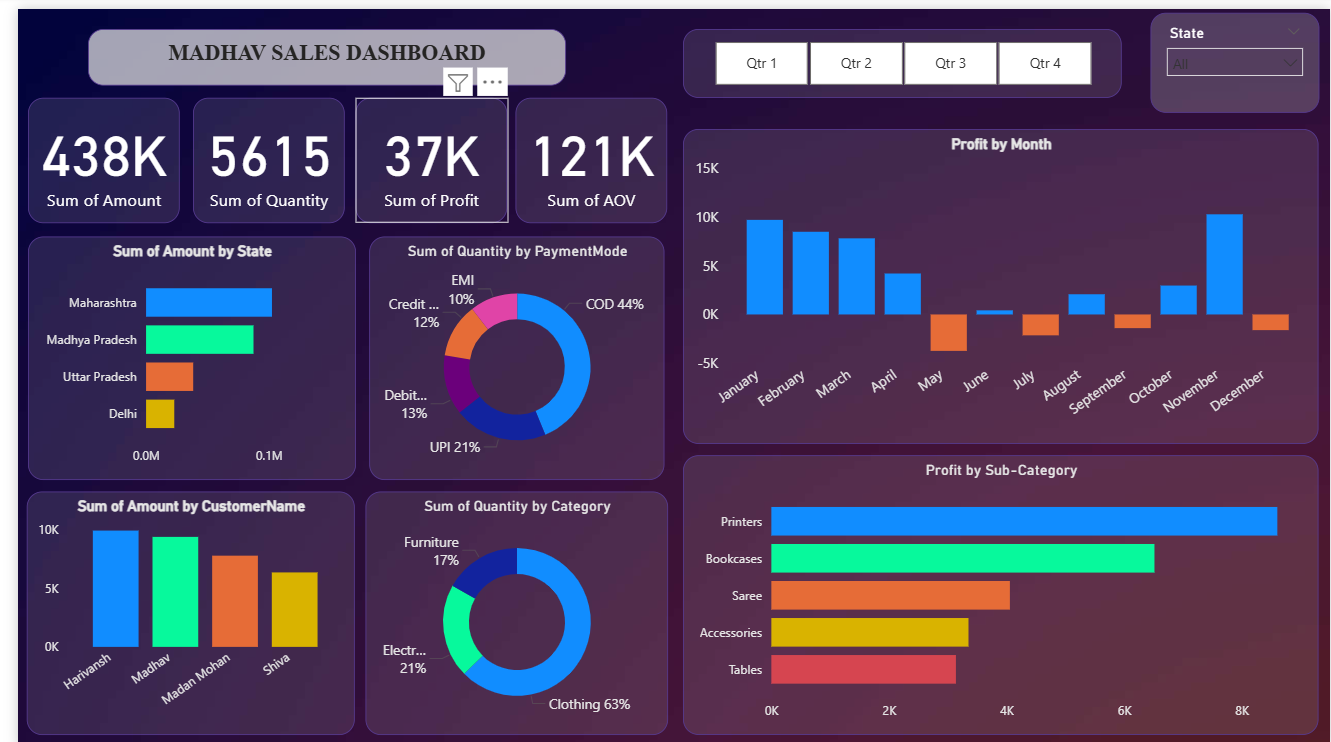

What the dashboard file says about the page in this screenshot:
{"tool":"powerbi","page":{"name":"Page 1","canvas":[1280,720],"ordinal":0},"visuals":[{"type":"textbox","box":[68.6,19.2,466.6,54.9],"z":0},{"type":"columnChart","title":"Profit by Month","fields":{"Y":["Details.Profit"],"Category":["Orders.Order Date.Variation.Date Hierarchy.Month"]},"box":[649.1,116.6,620.2,307.4],"z":1000},{"type":"barChart","title":"Profit by Sub-Category","fields":{"Category":["Details.Sub-Category"],"Y":["Details.Profit"]},"box":[649.1,435,620.2,273.1],"z":2000},{"type":"donutChart","fields":{"Category":["Details.Category"],"Y":["Details.Quantity"]},"box":[338.9,470.7,295,237.4],"z":3000},{"type":"donutChart","fields":{"Category":["Details.PaymentMode"],"Y":["Details.Quantity"]},"box":[343.1,222.3,288.2,237.4],"z":4000},{"type":"card","fields":{"Values":["Details.Amount"]},"box":[9.6,86.4,148.2,122.1],"z":5000},{"type":"card","fields":{"Values":["Details.Quantity"]},"box":[170.2,86.4,148.2,122.1],"z":6000},{"type":"card","fields":{"Values":["Details.Profit"]},"box":[329.3,86.4,148.2,122.1],"z":7000},{"type":"card","fields":{"Values":["Details.AOV"]},"box":[485.8,86.4,148.2,122.1],"z":8000},{"type":"barChart","fields":{"Category":["Orders.State"],"Y":["Details.Amount"]},"box":[9.6,222.3,319.7,237.4],"z":9000},{"type":"columnChart","fields":{"Category":["Orders.CustomerName"],"Y":["Details.Amount"]},"box":[8.2,470.7,319.7,237.4],"z":10000},{"type":"slicer","fields":{"Values":["Orders.Order Date.Variation.Date Hierarchy.Quarter"]},"box":[649.1,19.2,428.1,67.2],"z":11000},{"type":"slicer","fields":{"Values":["Orders.State"]},"box":[1104.6,4.1,164.7,97.4],"z":12000}]}

Visuals, with their boxes in screenshot pixels (x1, y1, x2, y2), scaled from the page's 1280x720 canvas onto the 1331x742 screenshot:
textbox: (71, 20, 557, 76)
"Profit by Month" columnChart: (675, 120, 1320, 437)
"Profit by Sub-Category" barChart: (675, 448, 1320, 730)
donutChart - Details.Category x Details.Quantity: (352, 485, 659, 730)
donutChart - Details.PaymentMode x Details.Quantity: (357, 229, 656, 474)
card - Details.Amount: (10, 89, 164, 215)
card - Details.Quantity: (177, 89, 331, 215)
card - Details.Profit: (342, 89, 497, 215)
card - Details.AOV: (505, 89, 659, 215)
barChart - Orders.State x Details.Amount: (10, 229, 342, 474)
columnChart - Orders.CustomerName x Details.Amount: (9, 485, 341, 730)
slicer - Orders.Order Date.Variation.Date Hierarchy.Quarter: (675, 20, 1120, 89)
slicer - Orders.State: (1149, 4, 1320, 105)
